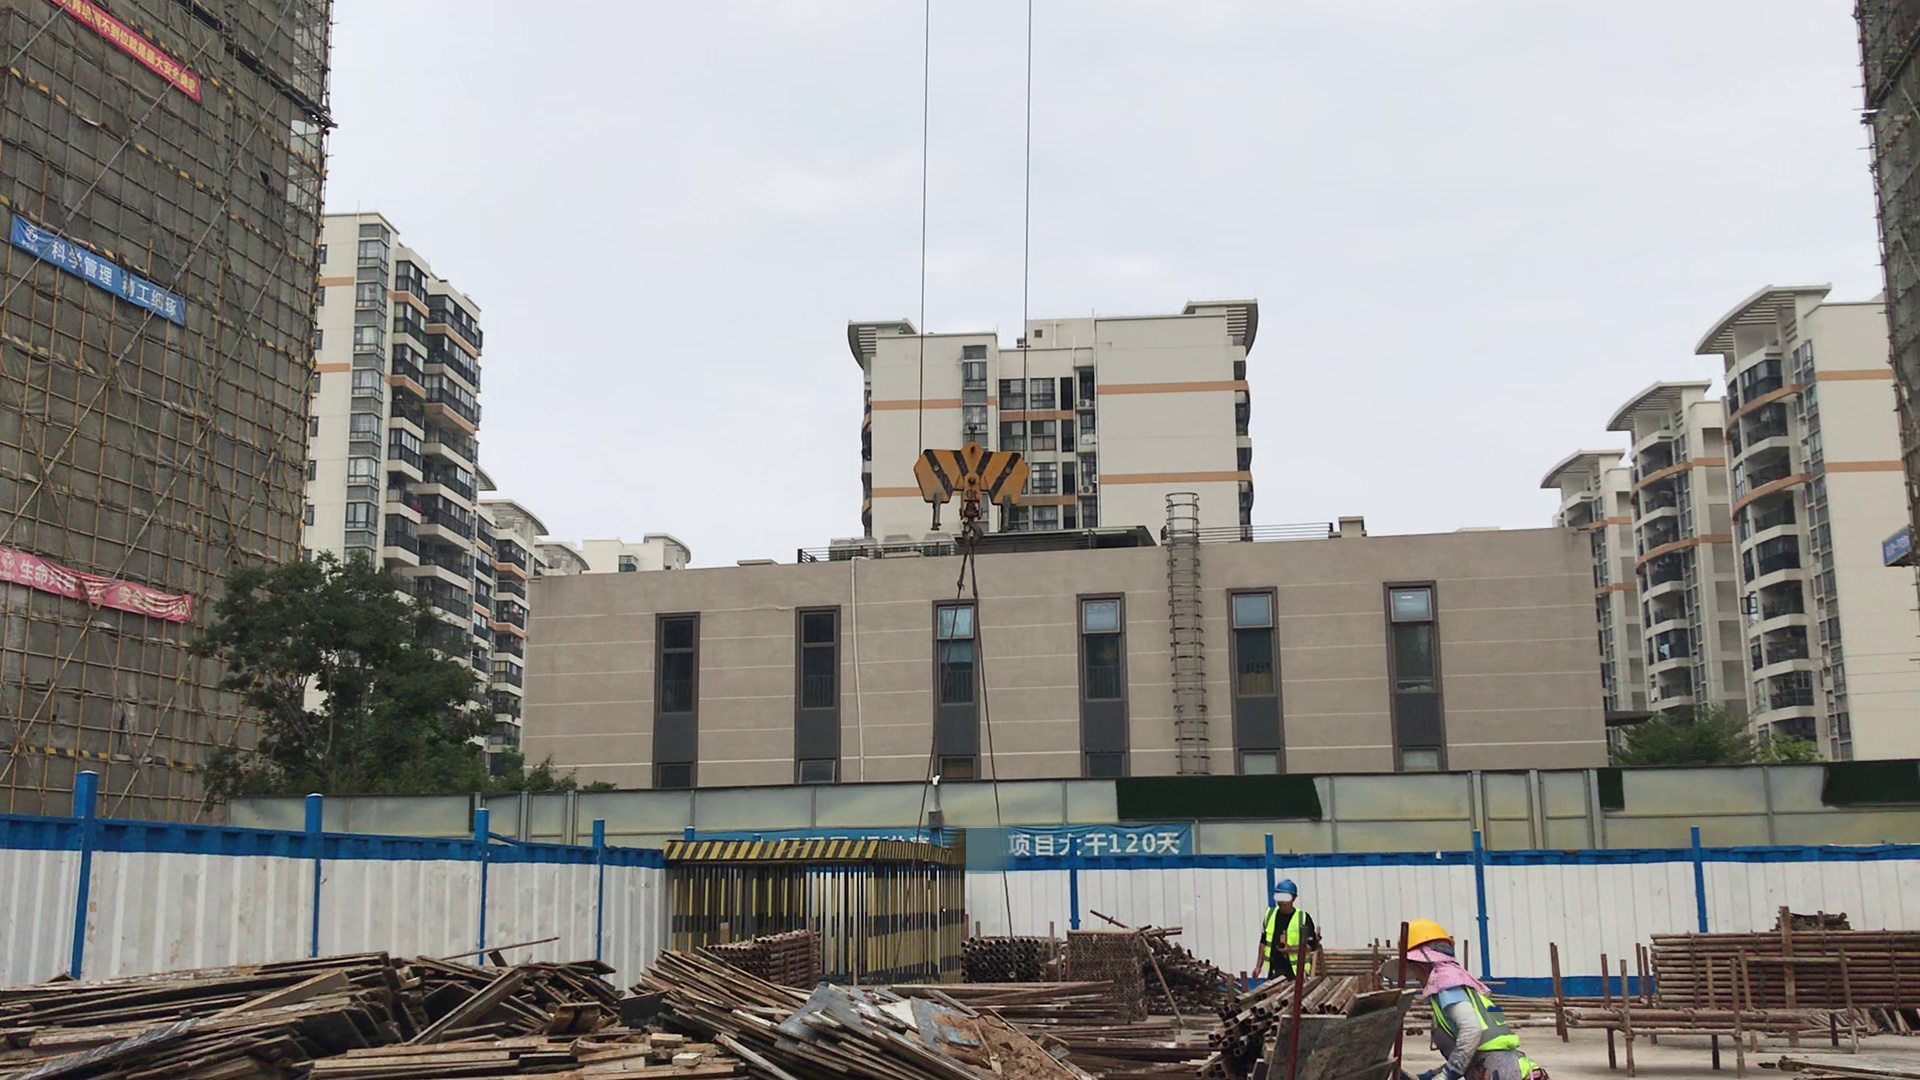board: (639, 939, 1014, 1080), (5, 952, 400, 1080), (940, 975, 1206, 1080), (342, 1020, 680, 1080)
helmet: (1403, 914, 1451, 951), (1263, 873, 1300, 902)
hook: (915, 429, 1034, 522)
person: (1398, 914, 1549, 1080), (1246, 861, 1320, 984)
scaffold: (1645, 922, 1914, 1007), (1148, 930, 1236, 1021), (707, 937, 822, 994), (957, 929, 1057, 985)
slogan: (1, 209, 199, 343), (1, 535, 195, 634), (27, 1, 214, 89), (973, 811, 1209, 878)
vest: (1415, 962, 1535, 1078), (1262, 904, 1310, 969)
